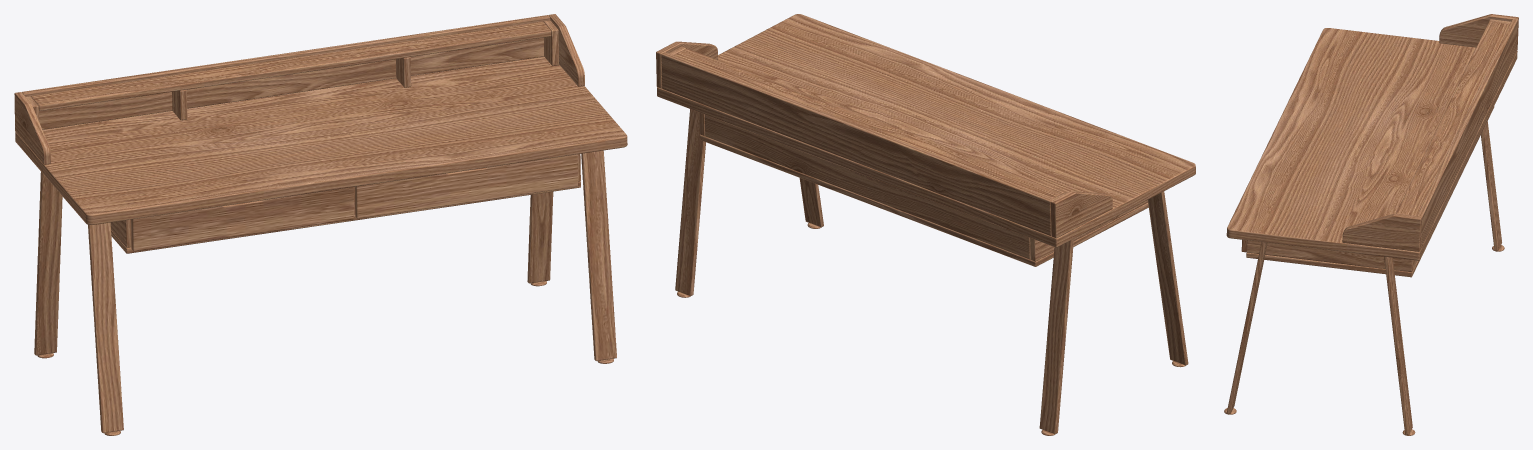
File: desk.glb
3 renders of one model, left to right at view 1: azimuth 30°, elevation 25°; view 2: azimuth 150°, elevation 25°; view 3: azimuth 270°, elevation 25°, orthographic. The views are drawn at different scales.
Parts seen in each view (by area): view 1: main_mesh_n3d, drawer_001_mesh_n3d, drawer_002_mesh_n3d; view 2: main_mesh_n3d; view 3: main_mesh_n3d.
Boxes of the visible parts, <box> form: main_mesh_n3d: <box>14,14,627,433</box>; drawer_001_mesh_n3d: <box>131,187,354,251</box>; drawer_002_mesh_n3d: <box>354,154,578,218</box>; main_mesh_n3d: <box>656,14,1195,434</box>; main_mesh_n3d: <box>1226,14,1518,435</box>.
Bounding box in the file's own units: 2.08 × 0.998 × 1.18.
Materials: 2 (2 with a texture image).
